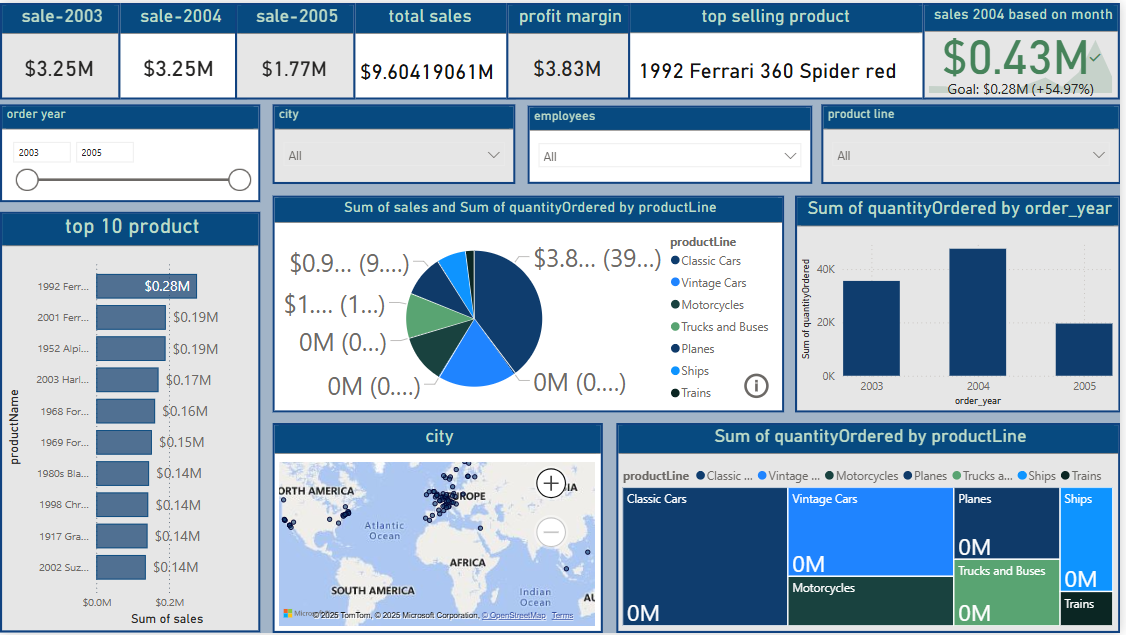

The page's visual inventory and layout, read from the dashboard file:
{"tool":"powerbi","page":{"name":"sale-product","canvas":[1280,720],"ordinal":0},"visuals":[{"type":"cardVisual","title":"total sales","fields":{"Data":["customer.total_sales"]},"box":[388.4,0,200.5,110.8],"z":0},{"type":"cardVisual","title":"top selling product","fields":{"Data":["products.MostOrderedProduct"]},"box":[709.6,0,347.8,110.8],"z":1000},{"type":"barChart","title":"top 10 product","fields":{"Category":["products.productName"],"Y":["Sum(order_details.sales)"]},"box":[0,238.4,297.3,481],"z":2000},{"type":"pieChart","fields":{"Category":["productlines.productLine"],"Y":["Sum(order_details.sales)","Sum(order_details.quantityOrdered)"]},"box":[311.3,220.2,584.8,248.2],"z":3000},{"type":"slicer","title":"order year","fields":{"Values":["orders.order_year"]},"box":[0,116.4,297.3,112.2],"z":4000},{"type":"card","title":"profit margin","fields":{"Values":["order_details.total_profit"]},"box":[579.1,0,141.6,110.8],"z":5000},{"type":"card","title":"sale-2004","fields":{"Values":["orders.sale_2003"]},"box":[126.2,0,157.1,110.8],"z":6000},{"type":"kpi","title":"sales 2004 based on month","fields":{"Indicator":["orders.sale_2004"],"Goal":["orders.sale_2003"],"TrendLine":["orders.month_name"]},"box":[1054.5,0,225.8,110.8],"z":7000},{"type":"map","fields":{"Category":["customer.city"]},"box":[311.3,479.6,377.2,239.8],"z":8000},{"type":"columnChart","fields":{"Category":["orders.order_year"],"Y":["Sum(order_details.quantityOrdered)"]},"box":[908.7,220.2,371.6,248.2],"z":9000},{"type":"card","title":"sale-2003","fields":{"Values":["orders.sale_2003"]},"box":[0,0,137.4,110.8],"z":10000},{"type":"card","title":"sale-2005","fields":{"Values":["orders.sale_2005"]},"box":[269.2,0,137.4,110.8],"z":11000},{"type":"slicer","title":"city","fields":{"Values":["offices.city"]},"box":[311.3,116.4,277.7,91.1],"z":12000},{"type":"slicer","title":"employees","fields":{"Values":["employee.full name "]},"box":[603,117.8,325.3,89.7],"z":13000},{"type":"slicer","title":"product line","fields":{"Values":["productlines.productLine"]},"box":[938.1,116.4,342.2,91.1],"z":14000},{"type":"treemap","fields":{"Group":["productlines.productLine"],"Values":["Sum(order_details.quantityOrdered)"]},"box":[703.9,479.6,576.3,239.8],"z":15000},{"type":"actionButton","box":[845.9,417.6,37.8,40.5],"z":15001}]}

Visuals, with their boxes in screenshot pixels (x1, y1, x2, y2), scaled from the page's 1280x720 canvas onto the 1126x635 screenshot:
"total sales" cardVisual: left=342, top=0, right=518, bottom=98
"top selling product" cardVisual: left=624, top=0, right=930, bottom=98
"top 10 product" barChart: left=0, top=210, right=262, bottom=634
pieChart - productlines.productLine x Sum(order_details.sales): left=274, top=194, right=788, bottom=413
"order year" slicer: left=0, top=103, right=262, bottom=202
"profit margin" card: left=509, top=0, right=634, bottom=98
"sale-2004" card: left=111, top=0, right=249, bottom=98
"sales 2004 based on month" kpi: left=928, top=0, right=1125, bottom=98
map - customer.city: left=274, top=423, right=606, bottom=634
columnChart - orders.order_year x Sum(order_details.quantityOrdered): left=799, top=194, right=1125, bottom=413
"sale-2003" card: left=0, top=0, right=121, bottom=98
"sale-2005" card: left=237, top=0, right=358, bottom=98
"city" slicer: left=274, top=103, right=518, bottom=183
"employees" slicer: left=530, top=104, right=817, bottom=183
"product line" slicer: left=825, top=103, right=1125, bottom=183
treemap - productlines.productLine x Sum(order_details.quantityOrdered): left=619, top=423, right=1125, bottom=634
actionButton: left=744, top=368, right=777, bottom=404
